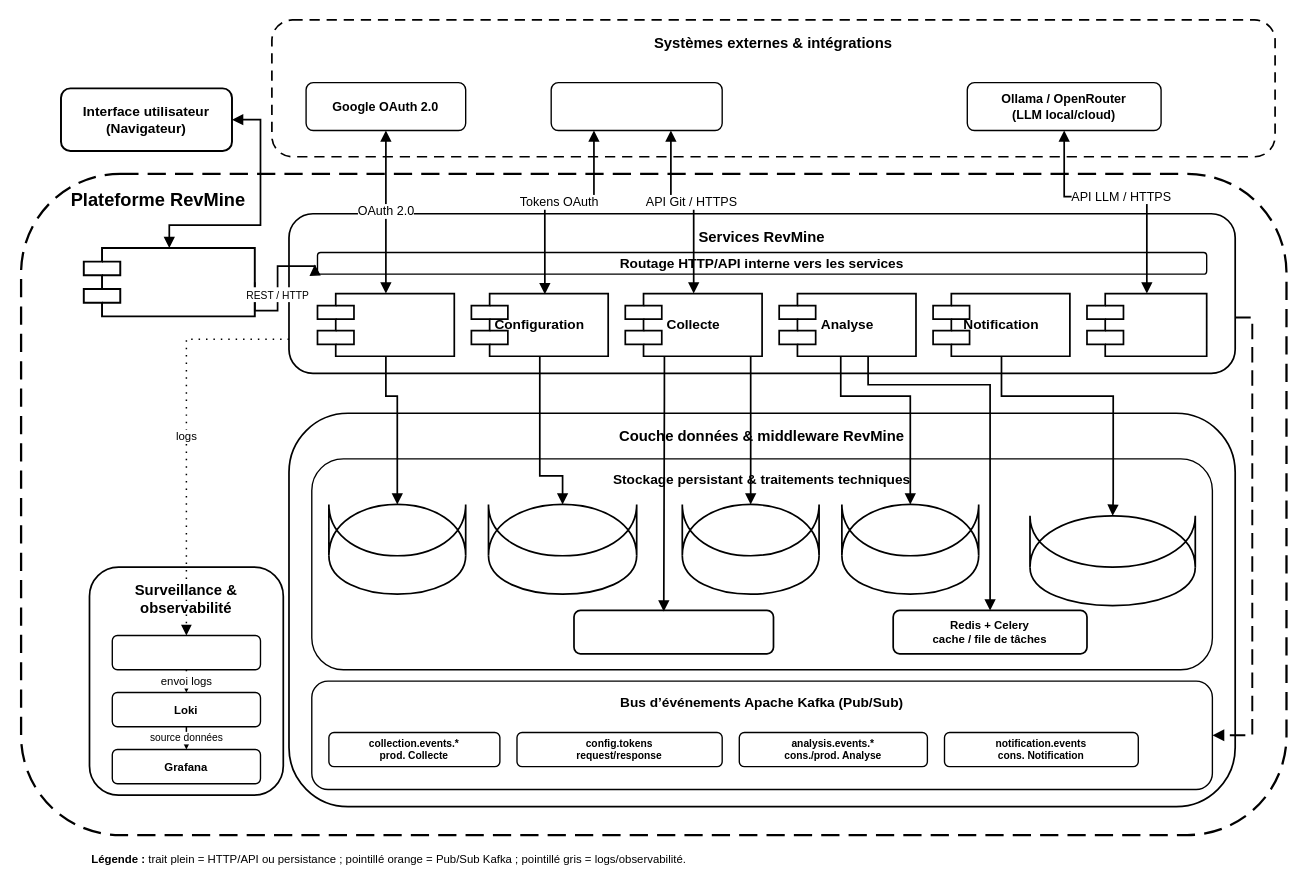
Image size: 1306x893. Some labels were removed from this diagram. Each missing label, with the centre of its shape:
analyze_db PostgreSQL: pixel 910 529
API Gateway: pixel 168 281
auth_db PostgreSQL: pixel 397 529
Authentification: pixel 385 324
collection_db PostgreSQL: pixel 750 529
configuration_db PostgreSQL: pixel 562 529
GitHub / GitLab (dépôts & API): pixel 636 106
LLM: pixel 1146 324
notification_db PostgreSQL: pixel 1112 540
Promtail: pixel 186 652
revmine-collections MinIO / stockage objet: pixel 673 631
